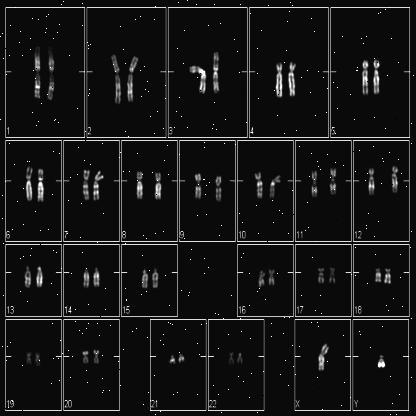1: (44, 43, 58, 103), (32, 43, 42, 100)
10: (252, 170, 264, 200), (269, 173, 281, 201)
11: (308, 168, 320, 200), (328, 166, 338, 199)
12: (390, 162, 400, 198), (366, 166, 376, 200)
13: (35, 263, 46, 290), (23, 262, 32, 290)
14: (90, 265, 102, 289), (82, 265, 90, 293)
15: (150, 266, 160, 292), (140, 268, 150, 292)
16: (266, 266, 277, 288), (258, 268, 266, 290)
17: (315, 265, 326, 287), (326, 265, 337, 287)
18: (382, 265, 392, 287), (374, 265, 382, 286)
19: (24, 348, 33, 366), (34, 349, 42, 367)
2: (126, 52, 140, 104), (110, 51, 122, 106)
20: (82, 349, 90, 365), (92, 348, 100, 364)
21: (166, 352, 176, 366), (176, 352, 185, 364)
22: (236, 350, 244, 366), (227, 349, 234, 365)
3: (186, 64, 208, 96), (211, 50, 223, 96)
4: (286, 60, 298, 100), (274, 61, 286, 100)
5: (360, 58, 370, 96), (374, 57, 382, 98)
6: (35, 166, 45, 204), (24, 164, 33, 204)
7: (93, 168, 105, 206), (82, 168, 90, 204)
8: (134, 169, 146, 201), (153, 170, 164, 203)
9: (212, 172, 224, 204), (192, 170, 203, 202)
X: (318, 341, 329, 374)
Y: (376, 352, 386, 370)
